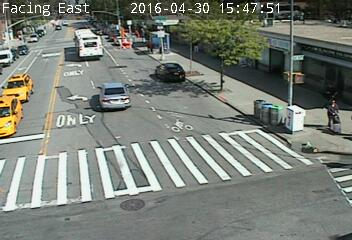neg: (275, 24, 309, 69), (99, 140, 132, 184), (145, 141, 176, 183), (235, 193, 264, 231), (4, 134, 32, 173), (121, 78, 148, 114), (44, 160, 71, 196), (179, 117, 206, 152), (215, 151, 239, 183), (55, 84, 79, 115), (155, 63, 177, 93), (232, 35, 254, 64), (28, 24, 49, 52), (157, 201, 177, 229), (204, 58, 223, 84), (266, 149, 285, 175), (264, 95, 282, 119), (87, 39, 105, 63), (285, 185, 301, 206)
pos: (321, 96, 350, 134)
